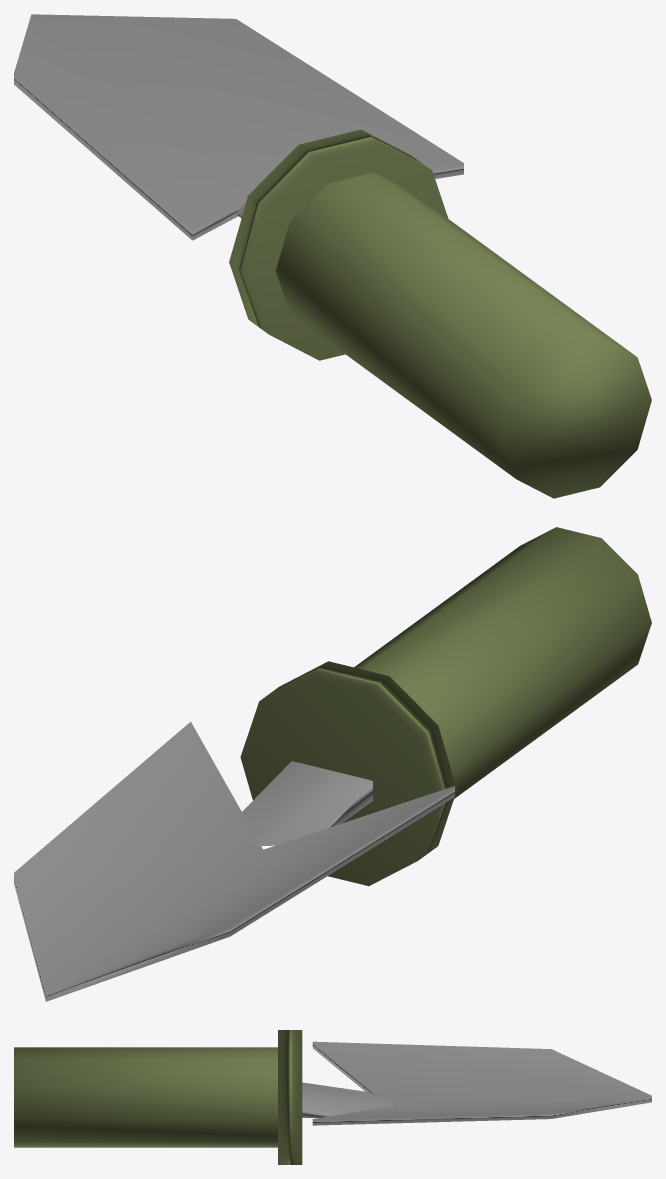
File: spadeS.fbx
3 renders of one model, top to bottom at view 1: azimuth 30°, elevation 25°; view 2: azimuth 150°, elevation 25°; view 3: azimuth 270°, elevation 25°, orthographic. The views are drawn at different scales.
Visible parts, largest first — view 1: spade; view 2: spade; view 3: spade.
Boxes of the visible parts, x1,y1,x2,y2 form: spade: [14, 14, 651, 498]; spade: [14, 527, 651, 1001]; spade: [14, 1030, 651, 1164].
Size of the model in its own units: 6.08 by 4.3 by 21.2.
